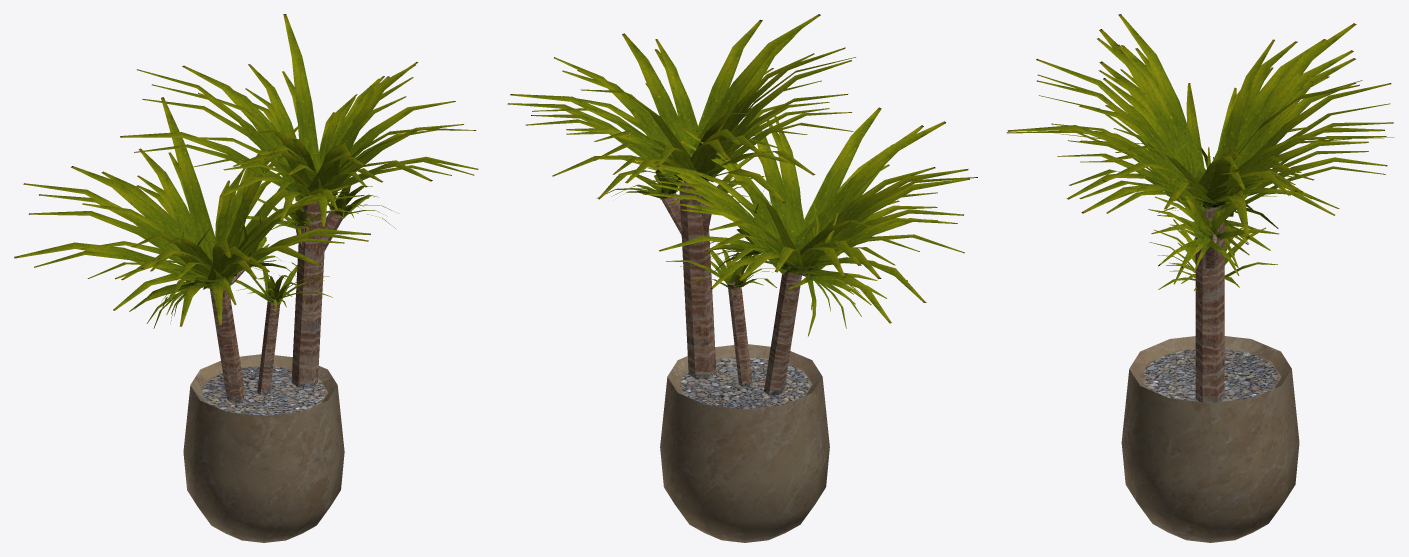
The model's file is Plant.fbx.
3 views of the same model, side by side, from view 1: azimuth 30°, elevation 25°; view 2: azimuth 150°, elevation 25°; view 3: azimuth 270°, elevation 25° (orthographic). The views are drawn at different scales.
Visible parts, largest first — view 1: Combine Low; view 2: Combine Low; view 3: Combine Low.
Part boxes in pixels (x1=…): Combine Low: x1=14, y1=14, x2=478, y2=542; Combine Low: x1=507, y1=14, x2=977, y2=542; Combine Low: x1=1006, y1=14, x2=1393, y2=542.
Bounding box in the file's own units: 87.47 × 87.84 × 63.51.
1 material, 1 textured.
